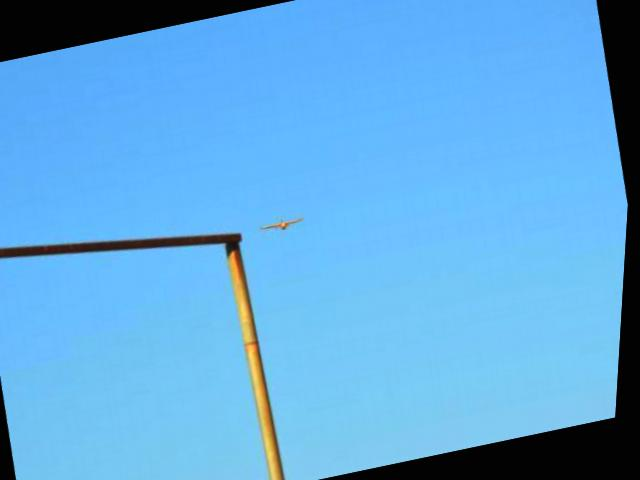iha: (260, 214, 309, 234)
